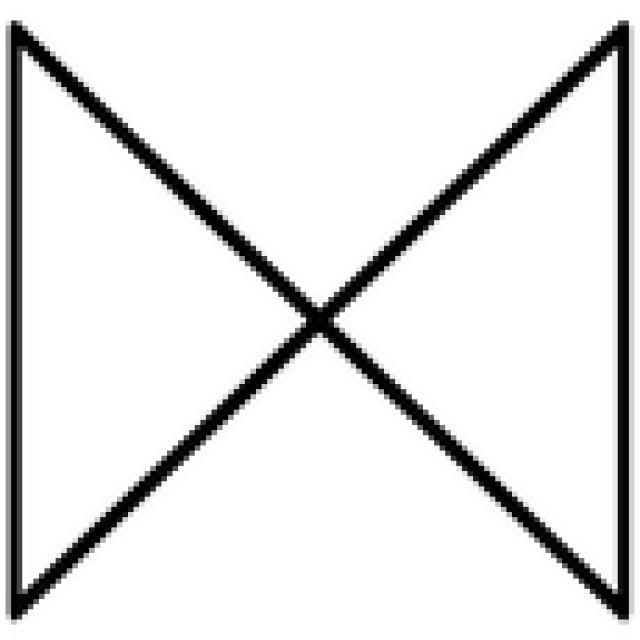Gate valve: (320, 30, 625, 612), (17, 30, 315, 608)
